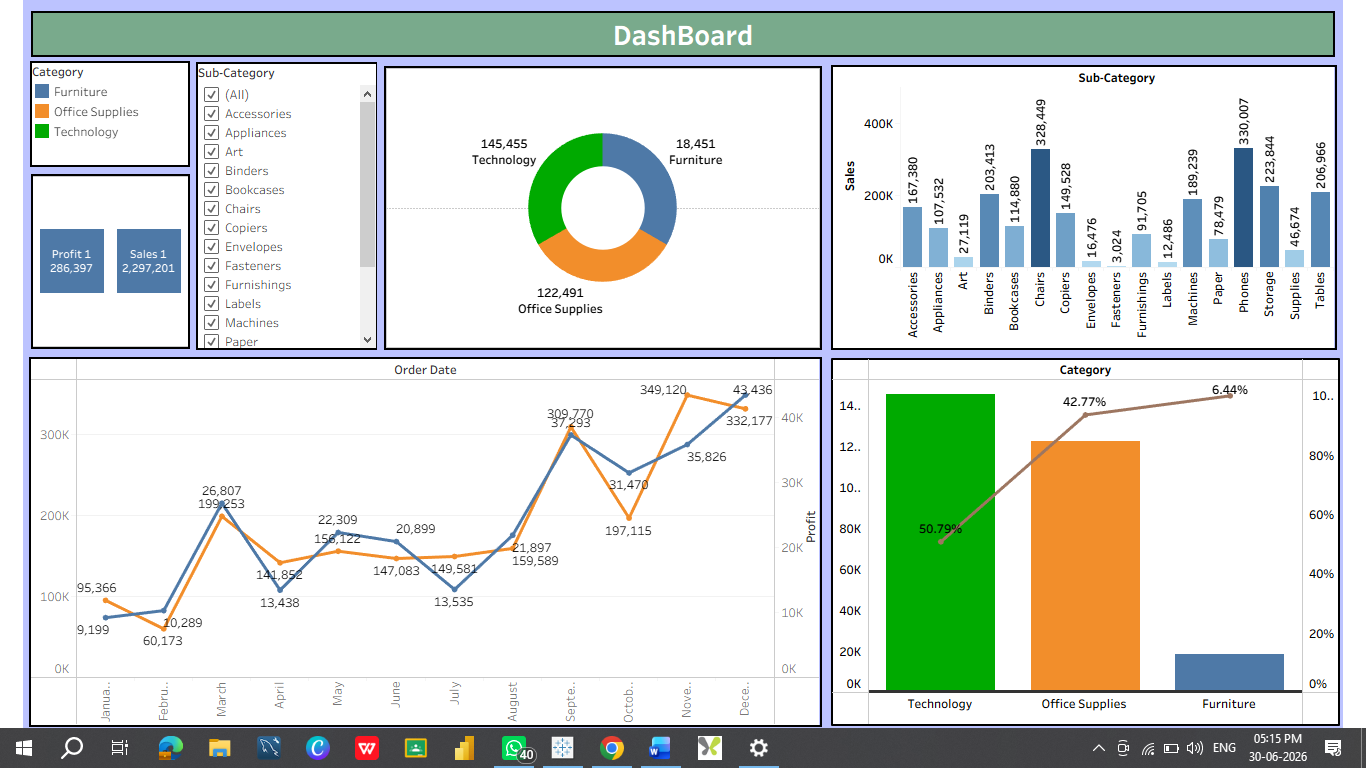

Layout of this report page (visuals, bound fields, positions):
{"tool":"tableau","page":{"name":"Dashboard 1","canvas":[1000,1000],"units":"permille","ordinal":0},"visuals":[{"type":"text","box":[6.1,15.2,987.9,62.5]},{"type":"legend","title":"Donut","param":"[federated.04a9pmf04ss9h3161547s19cl1rt].[none:Category:nk]","box":[5.2,82.8,121.2,143.6]},{"type":"filter","title":"Column Chart","param":"[federated.04a9pmf04ss9h3161547s19cl1rt].[none:Sub-Category:nk]","box":[130.7,84.5,137.7,390.2]},{"type":"worksheet","title":"Column Chart","mark":"Automatic","rows":["Sales"],"cols":["Sub-Category"],"box":[612.1,87.8,383.6,386.8]},{"type":"worksheet","title":"Donut","mark":"Automatic","rows":["Calculation_0711396898516993","Calculation_0711396898516993"],"box":[273.5,89.4,331.8,384.5]},{"type":"worksheet","title":"KPI","mark":"Square","box":[6.1,236.1,120.5,237.8]},{"type":"worksheet","title":"Dual Line ","mark":"Automatic","rows":["Sales","Profit"],"cols":["Order Date"],"box":[4.5,484,600.8,500.8]},{"type":"worksheet","title":"Paroto Chart","mark":"Automatic","rows":["Profit","Profit"],"cols":["Category"],"box":[612.1,485.7,385.6,499.2]}]}

Visuals, with their boxes on the dashboard's canvas, which has no fixed pixel size, in thousandths of its width and height (x1, y1, x2, y2). These are canvas units, not pixel positions in the 1366x768 screenshot, which may show the page scaled, cropped or inside an application window:
text: detection(6, 15, 994, 78)
"Donut" legend: detection(5, 83, 126, 226)
"Column Chart" filter: detection(131, 84, 268, 475)
"Column Chart" worksheet: detection(612, 88, 996, 475)
"Donut" worksheet: detection(274, 89, 605, 474)
"KPI" worksheet (Square marks): detection(6, 236, 127, 474)
"Dual Line " worksheet: detection(4, 484, 605, 985)
"Paroto Chart" worksheet: detection(612, 486, 998, 985)
